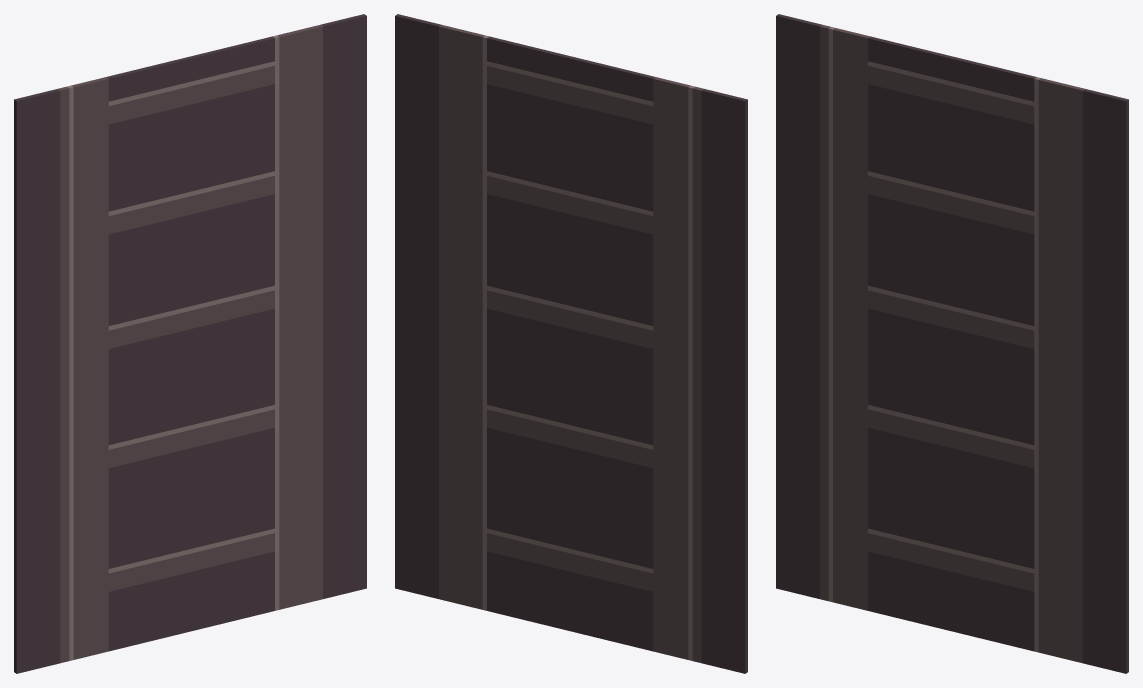
Rendered from techoparedRojaEscalera.obj.
3 renders of one model, left to right at view 1: azimuth 30°, elevation 25°; view 2: azimuth 150°, elevation 25°; view 3: azimuth 330°, elevation 25°, orthographic.
Size of the model in its own units: 8 by 12.5 by 0.1.
1 material, 1 textured.
